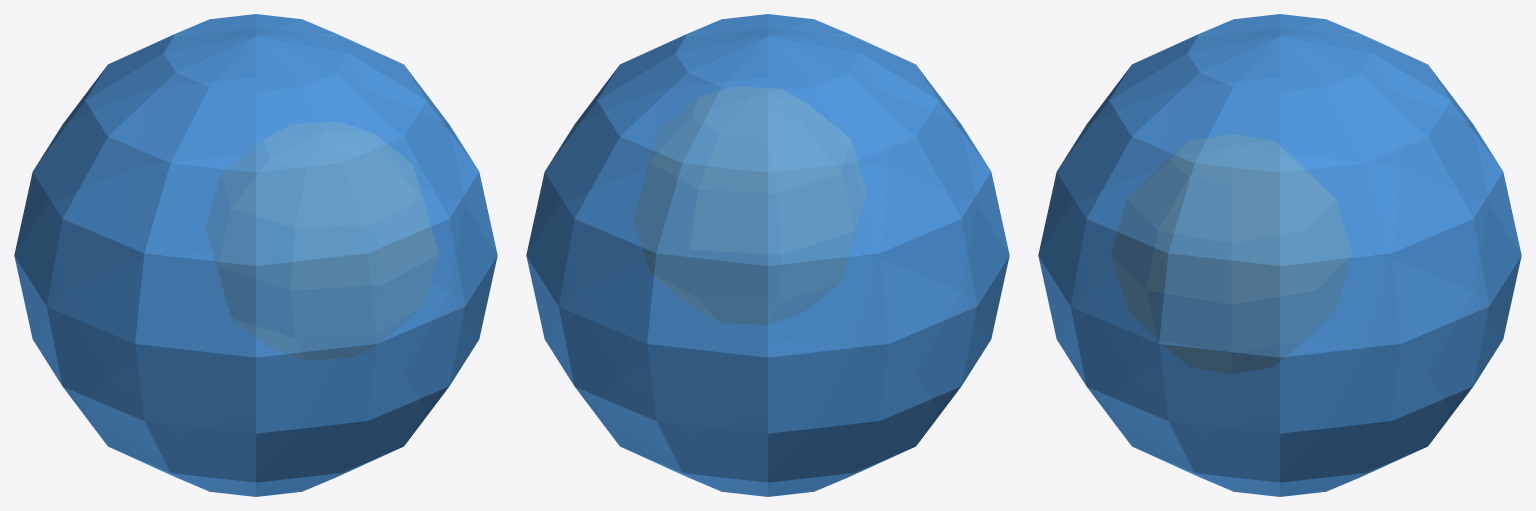
File: marble.fbx
3 renders of one model, left to right at view 1: azimuth 30°, elevation 25°; view 2: azimuth 150°, elevation 25°; view 3: azimuth 270°, elevation 25°, orthographic.
Parts seen in each view (by area): view 1: marble; view 2: marble; view 3: marble.
Boxes of the visible parts, x1,y1,x2,y2 form: marble: (14,14,497,496); marble: (526,14,1009,496); marble: (1038,14,1521,496).
Size of the model in its own units: 0.02 by 0.02 by 0.02.
